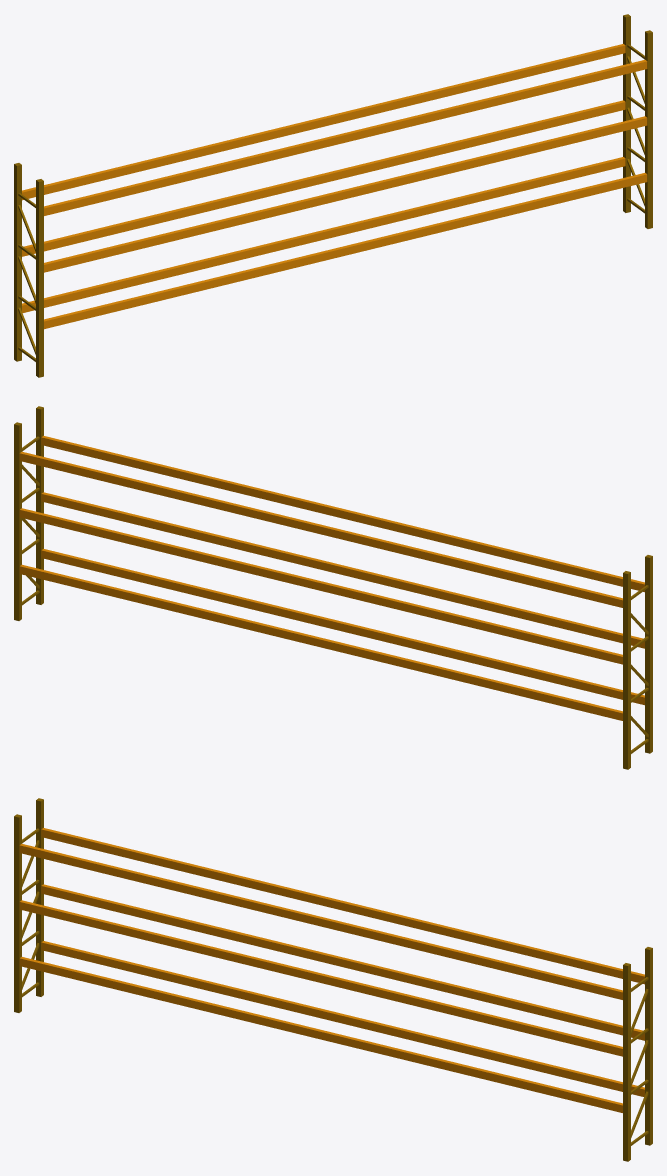
The model's file is SM_ShelfD_01.fbx.
3 views of the same model, one above another, from view 1: azimuth 30°, elevation 25°; view 2: azimuth 150°, elevation 25°; view 3: azimuth 330°, elevation 25° (orthographic).
Parts seen in each view (by area): view 1: SM_Shelf_D_01; view 2: SM_Shelf_D_01; view 3: SM_Shelf_D_01.
Boxes of the visible parts, x1,y1,x2,y2 form: SM_Shelf_D_01: (14,14,652,377); SM_Shelf_D_01: (14,406,652,769); SM_Shelf_D_01: (14,798,652,1161).
Bounding box in the file's own units: 1815 × 553 × 127.
